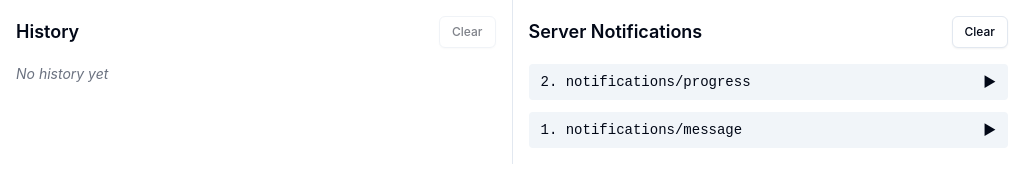
it: HistoryAndNotifications › clears server notifications when Clear is clicked
This screenshot has width=1024, height=181.
Check: the text "2. notifications/progress" is shown, box [540,72,751,92]
Check: the text "1. notifications/message" is shown, box [540,120,742,140]
Click the button "Clear" in the row of "Server Notifications": (980, 32) [952,16,1008,48]
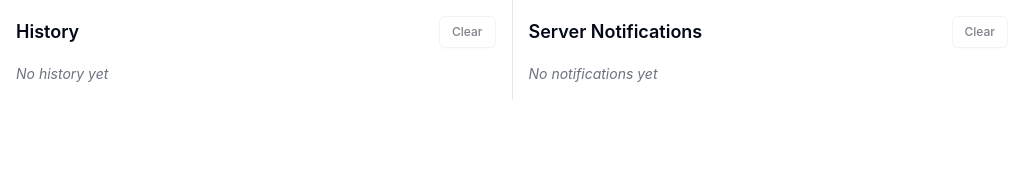
Check: the text "No notifications yet" is shown, box [528,65,658,82]
